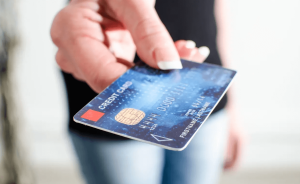card: (72, 58, 238, 152)
